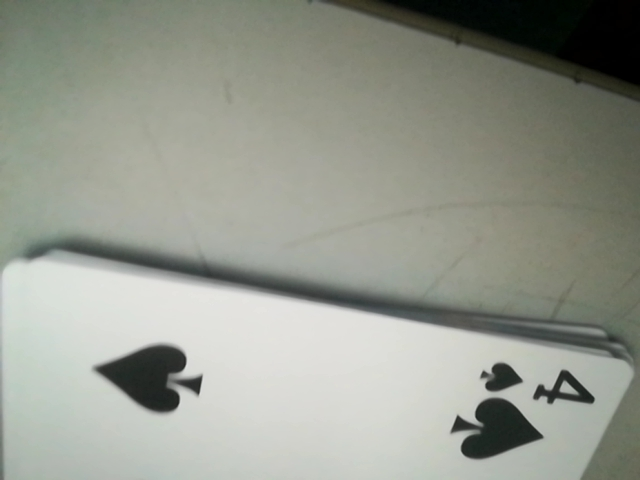ht 4: (473, 353, 607, 408)
